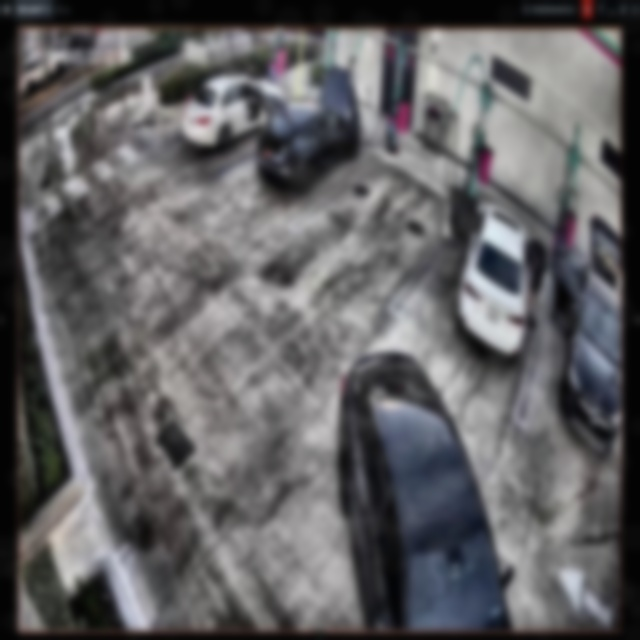Car: (329, 333, 515, 632), (445, 184, 548, 356), (256, 66, 360, 194), (183, 75, 287, 152)
